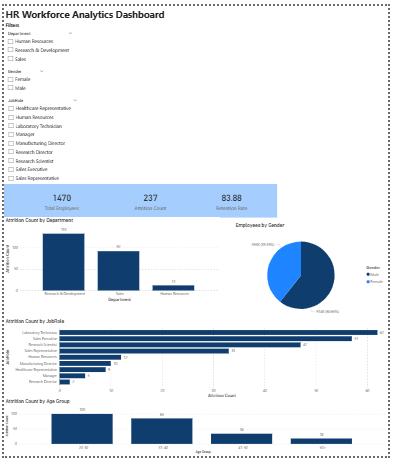

This screenshot's page, from the dashboard's own definition file:
{"tool":"powerbi","page":{"name":"Page 1","canvas":[1280,1500],"ordinal":0},"visuals":[{"type":"card","fields":{"Values":["WA_Fn-UseC_-HR-Employee-Attrition.Total Employees"]},"box":[0,592,384,112],"z":0},{"type":"card","fields":{"Values":["WA_Fn-UseC_-HR-Employee-Attrition.Attrition Count"]},"box":[320,592,336,112],"z":1},{"type":"card","fields":{"Values":["WA_Fn-UseC_-HR-Employee-Attrition.Retention Rate"]},"box":[608,592,304,112],"z":2},{"type":"clusteredColumnChart","fields":{"Category":["WA_Fn-UseC_-HR-Employee-Attrition.Department"],"Y":["WA_Fn-UseC_-HR-Employee-Attrition.Attrition Count"]},"box":[0,704,720,288],"z":3},{"type":"pieChart","title":"Employees by Gender","fields":{"Category":["WA_Fn-UseC_-HR-Employee-Attrition.Gender"],"Y":["Sum(WA_Fn-UseC_-HR-Employee-Attrition.EmployeeNumber)"]},"box":[768,720,512,336],"z":4},{"type":"clusteredBarChart","fields":{"Category":["WA_Fn-UseC_-HR-Employee-Attrition.JobRole"],"Y":["WA_Fn-UseC_-HR-Employee-Attrition.Attrition Count"]},"box":[0,1040,1280,272],"z":5},{"type":"slicer","fields":{"Values":["WA_Fn-UseC_-HR-Employee-Attrition.Department"]},"box":[0,80,240,128],"z":6},{"type":"slicer","fields":{"Values":["WA_Fn-UseC_-HR-Employee-Attrition.Gender"]},"box":[0,208,144,96],"z":7},{"type":"slicer","fields":{"Values":["WA_Fn-UseC_-HR-Employee-Attrition.JobRole"]},"box":[0,304,256,288],"z":8},{"type":"clusteredColumnChart","fields":{"Category":["WA_Fn-UseC_-HR-Employee-Attrition.Age Group"],"Y":["WA_Fn-UseC_-HR-Employee-Attrition.Attrition Count"]},"box":[0,1308,1280,192],"z":9},{"type":"textbox","box":[0,0,1280,60],"z":11},{"type":"textbox","box":[0,48,128,32],"z":12}]}

Visuals, with their boxes in screenshot pixels (x1, y1, x2, y2), scaled from the page's 1280x1500 canvas onto the 394x467 screenshot:
card - WA_Fn-UseC_-HR-Employee-Attrition.Total Employees: 0,184,118,219
card - WA_Fn-UseC_-HR-Employee-Attrition.Attrition Count: 98,184,202,219
card - WA_Fn-UseC_-HR-Employee-Attrition.Retention Rate: 187,184,281,219
clusteredColumnChart - WA_Fn-UseC_-HR-Employee-Attrition.Department x WA_Fn-UseC_-HR-Employee-Attrition.Attrition Count: 0,219,222,309
"Employees by Gender" pieChart: 236,224,393,329
clusteredBarChart - WA_Fn-UseC_-HR-Employee-Attrition.JobRole x WA_Fn-UseC_-HR-Employee-Attrition.Attrition Count: 0,324,393,408
slicer - WA_Fn-UseC_-HR-Employee-Attrition.Department: 0,25,74,65
slicer - WA_Fn-UseC_-HR-Employee-Attrition.Gender: 0,65,44,95
slicer - WA_Fn-UseC_-HR-Employee-Attrition.JobRole: 0,95,79,184
clusteredColumnChart - WA_Fn-UseC_-HR-Employee-Attrition.Age Group x WA_Fn-UseC_-HR-Employee-Attrition.Attrition Count: 0,407,393,466
textbox: 0,0,393,19
textbox: 0,15,39,25
